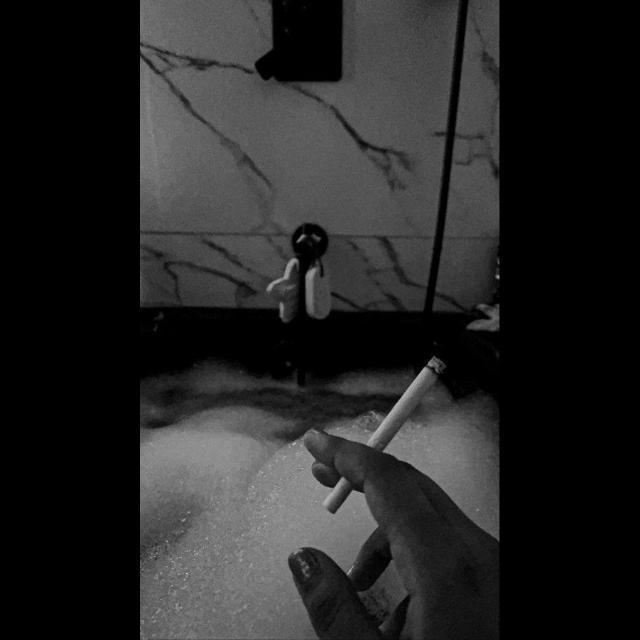rokok: (321, 352, 449, 514)
